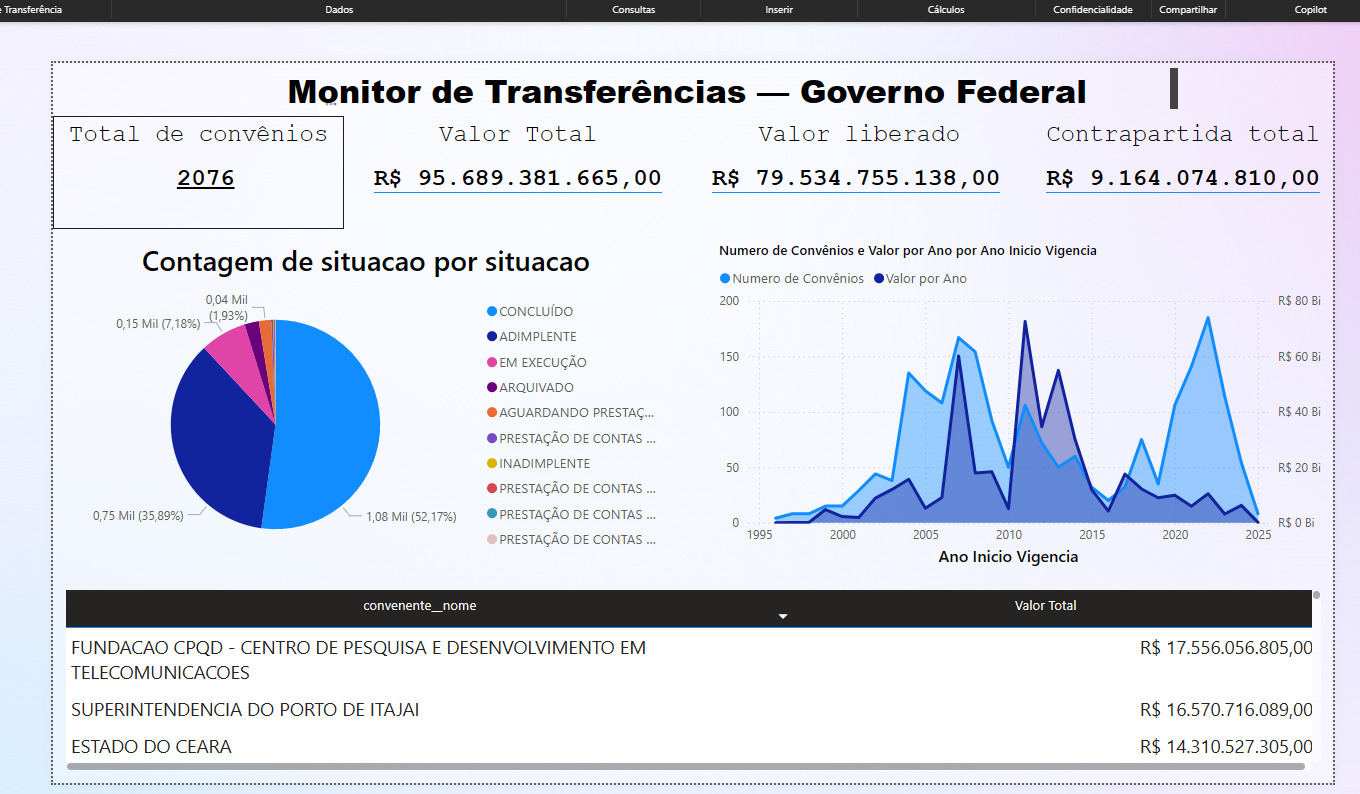

What the dashboard file says about the page in this screenshot:
{"tool":"powerbi","page":{"name":"Visão Geral","canvas":[1280,720],"ordinal":0},"visuals":[{"type":"pieChart","fields":{"Category":["Fato_Convenios_Lajeado_2025.situacao"],"Y":["CountNonNull(Fato_Convenios_Lajeado_2025.situacao)"]},"box":[0,166.2,626.2,348.8],"z":0},{"type":"textbox","box":[313.8,52.5,302.5,113.8],"z":1000},{"type":"textbox","box":[653.8,52.5,303.8,113.8],"z":2000},{"type":"textbox","box":[980,52.5,300,113.8],"z":3000},{"type":"textbox","box":[0,52.5,291.2,113.8],"z":4000},{"type":"areaChart","fields":{"Category":["Fato_Convenios_Lajeado_2025.Ano Inicio Vigencia"],"Y":["Fato_Convenios_Lajeado_2025.Total Convenios"],"Y2":["Fato_Convenios_Lajeado_2025.Valor por Ano"]},"box":[653.8,166.2,626.2,348.8],"z":5000},{"type":"tableEx","fields":{"Values":["Fato_Convenios_Lajeado_2025.convenente__nome","Fato_Convenios_Lajeado_2025.Valor Total"]},"box":[0,515,1280,205],"z":6000},{"type":"textbox","box":[146.2,0,983.8,52.5],"z":7000}]}

Visuals, with their boxes on the page's 1280x720 design canvas (x1, y1, x2, y2). These are canvas units, not pixel positions in the 1360x794 screenshot, which may show the page scaled, cropped or inside an application window:
pieChart - Fato_Convenios_Lajeado_2025.situacao x CountNonNull(Fato_Convenios_Lajeado_2025.situacao): box(0, 166, 626, 515)
textbox: box(314, 52, 616, 166)
textbox: box(654, 52, 958, 166)
textbox: box(980, 52, 1280, 166)
textbox: box(0, 52, 291, 166)
areaChart - Fato_Convenios_Lajeado_2025.Ano Inicio Vigencia x Fato_Convenios_Lajeado_2025.Total Convenios: box(654, 166, 1280, 515)
tableEx - Fato_Convenios_Lajeado_2025.convenente__nome x Fato_Convenios_Lajeado_2025.Valor Total: box(0, 515, 1280, 720)
textbox: box(146, 0, 1130, 52)
